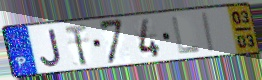4: (137, 18, 162, 59)
7: (98, 18, 126, 67)
I: (201, 11, 218, 55)
J: (39, 27, 64, 68)
L: (170, 15, 203, 56)
T: (63, 22, 89, 68)
